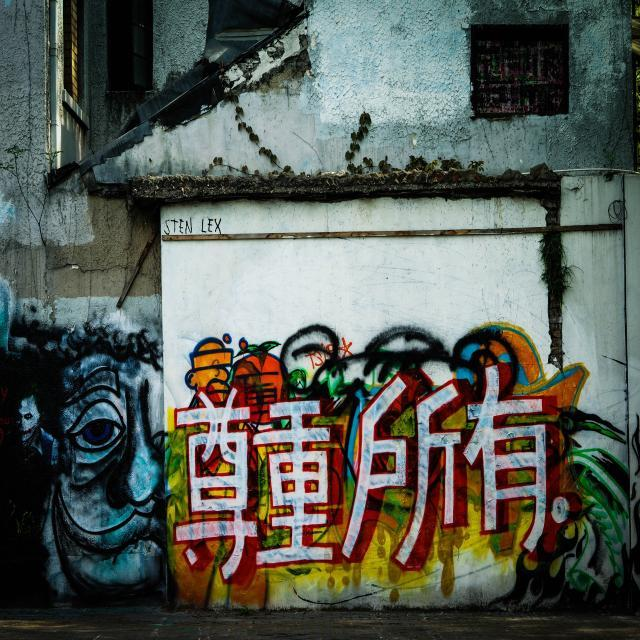-: (163, 323, 631, 584), (19, 322, 162, 598), (163, 218, 224, 235)
